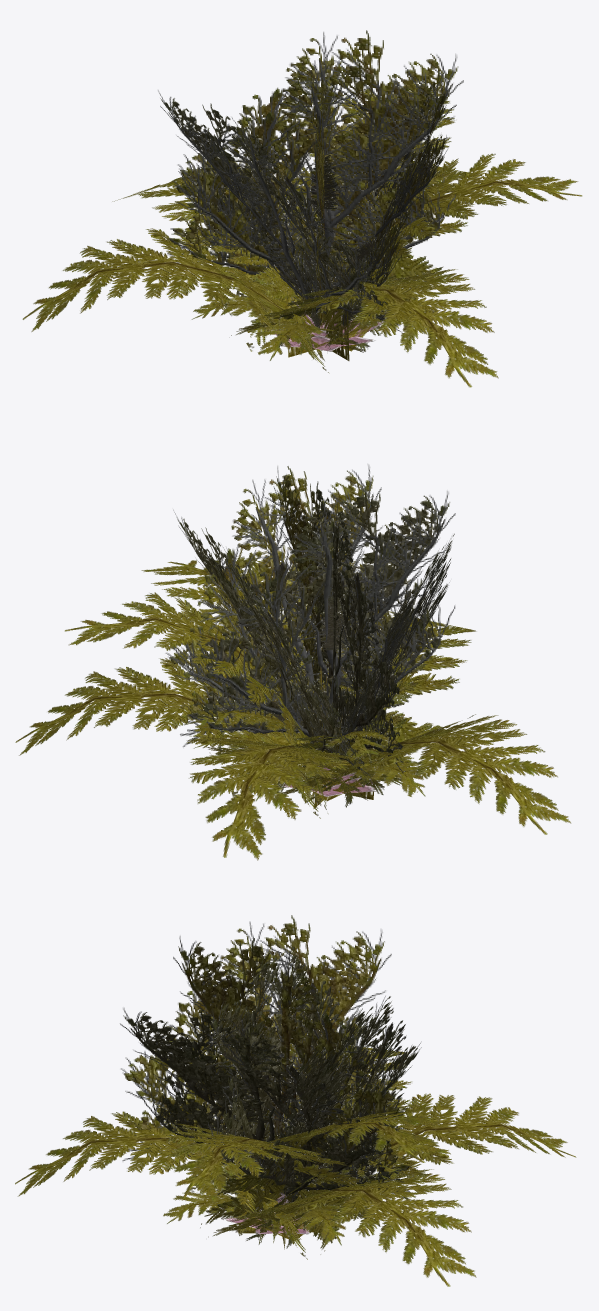
File: plants.glb
3 views of the same model, one above another, from view 1: azimuth 30°, elevation 25°; view 2: azimuth 150°, elevation 25°; view 3: azimuth 270°, elevation 25° (orthographic). The views are drawn at different scales.
Parts seen in each view (by area): view 1: P_bush-dry, P_Foliage-big-bright, P_bush-live-bright, P_bush-live-dark, P_Foliage-medium-bright, P_Foliage-big-dark, P_Straw-grn, P_Foliage-medium-dark, P_flower-big-pink, P_grass-generic; view 2: P_Foliage-big-bright, P_bush-live-dark, P_bush-dry, P_bush-live-bright, P_Foliage-medium-bright, P_Foliage-big-dark, P_Straw-grn, P_Foliage-medium-dark; view 3: P_Foliage-big-bright, P_bush-live-dark, P_bush-live-bright, P_bush-dry, P_Foliage-medium-bright, P_Foliage-big-dark, P_Foliage-medium-dark.
Boxes of the visible parts, x1,y1,x2,y2 form: P_bush-dry: [158, 32, 463, 333]; P_Foliage-big-bright: [22, 82, 582, 387]; P_bush-live-bright: [162, 30, 457, 318]; P_bush-live-dark: [161, 30, 456, 320]; P_Foliage-medium-bright: [172, 203, 433, 360]; P_Foliage-big-dark: [23, 86, 576, 386]; P_Straw-grn: [267, 155, 380, 327]; P_Foliage-medium-dark: [182, 217, 429, 360]; P_flower-big-pink: [268, 305, 383, 351]; P_grass-generic: [284, 251, 349, 360]; P_Foliage-big-bright: [15, 560, 570, 860]; P_bush-live-dark: [171, 466, 454, 769]; P_bush-dry: [165, 464, 455, 784]; P_bush-live-bright: [170, 466, 448, 761]; P_Foliage-medium-bright: [184, 645, 464, 807]; P_Foliage-big-dark: [20, 561, 570, 859]; P_Straw-grn: [269, 593, 392, 752]; P_Foliage-medium-dark: [184, 657, 437, 807]; P_Foliage-big-bright: [15, 1045, 576, 1286]; P_bush-live-dark: [123, 915, 417, 1202]; P_bush-live-bright: [124, 915, 417, 1198]; P_bush-dry: [120, 922, 421, 1208]; P_Foliage-medium-bright: [149, 1093, 415, 1248]; P_Foliage-big-dark: [19, 1051, 566, 1285]; P_Foliage-medium-dark: [164, 1101, 402, 1245].
Size of the model in its own units: 0.9699 by 0.5462 by 0.9406.
Materials: 9 (9 with a texture image).
